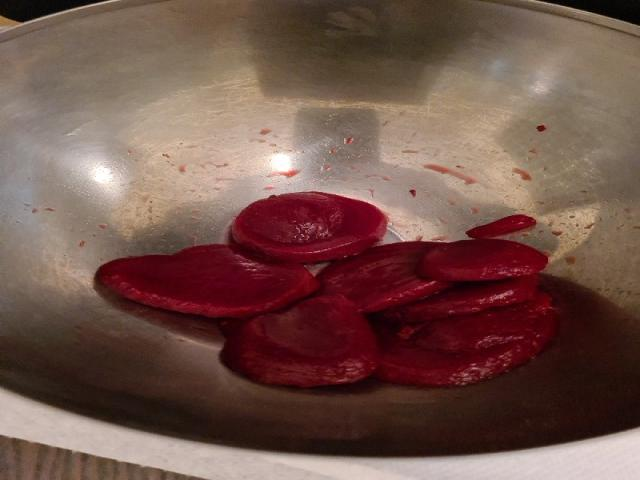kichen waste: (95, 192, 557, 388)
